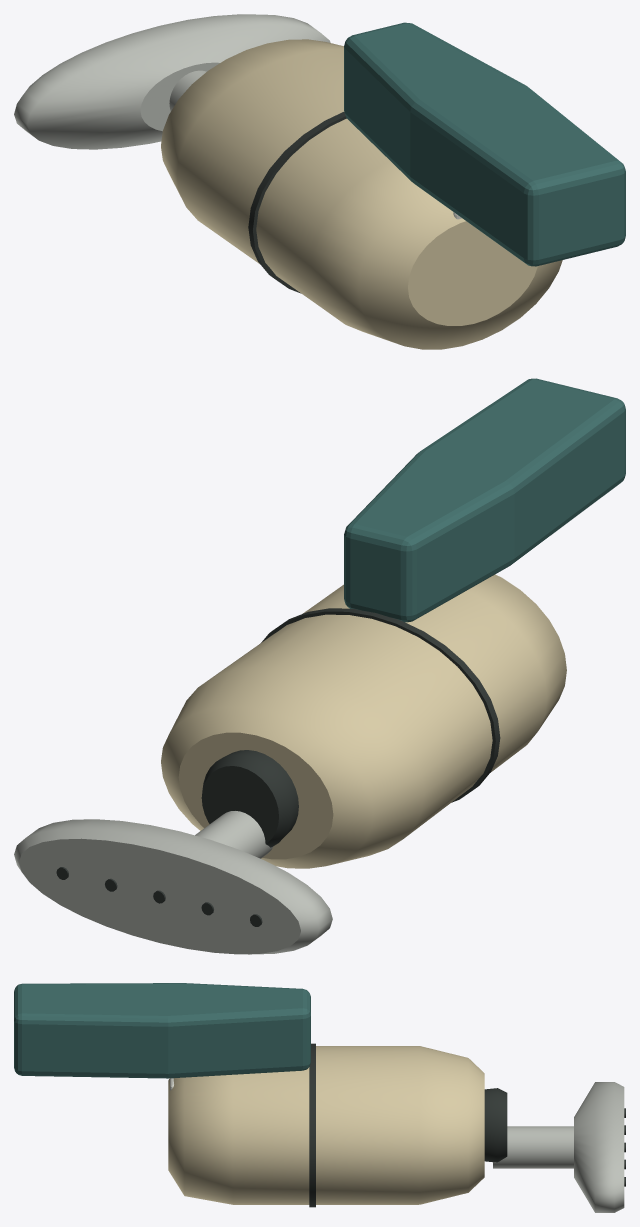
File: Steamer.fbx
The picture shows the model from 3 angles, top to bottom: view 1: azimuth 30°, elevation 25°; view 2: azimuth 150°, elevation 25°; view 3: azimuth 270°, elevation 25°; orthographic projection. The views are drawn at different scales.
Parts seen in each view (by area): view 1: Oval enamel reservoir, Swept rear handle, Broad steam shoe, Reservoir seam, Nozzle neck; view 2: Oval enamel reservoir, Swept rear handle, Broad steam shoe, Filler cap, Reservoir seam, Nozzle neck; view 3: Oval enamel reservoir, Swept rear handle, Broad steam shoe, Nozzle neck, Filler cap, Reservoir seam.
Part boxes in pixels (box(x1,y1,x2,y2)): Oval enamel reservoir: box(161, 39, 562, 349); Swept rear handle: box(344, 22, 625, 266); Broad steam shoe: box(14, 14, 330, 149); Reservoir seam: box(248, 112, 346, 293); Nozzle neck: box(169, 70, 206, 110); Oval enamel reservoir: box(161, 574, 566, 868); Swept rear handle: box(344, 378, 625, 622); Broad steam shoe: box(14, 819, 332, 954); Filler cap: box(201, 750, 298, 847); Reservoir seam: box(261, 608, 500, 802); Nozzle neck: box(195, 811, 273, 858); Oval enamel reservoir: box(168, 1046, 484, 1204); Swept rear handle: box(14, 983, 310, 1078); Broad steam shoe: box(574, 1082, 624, 1212); Nozzle neck: box(493, 1126, 573, 1168); Filler cap: box(484, 1088, 507, 1162); Reservoir seam: box(309, 1043, 315, 1207).
Bounding box in the file's own units: 15.8 × 13.3 × 37.7.
